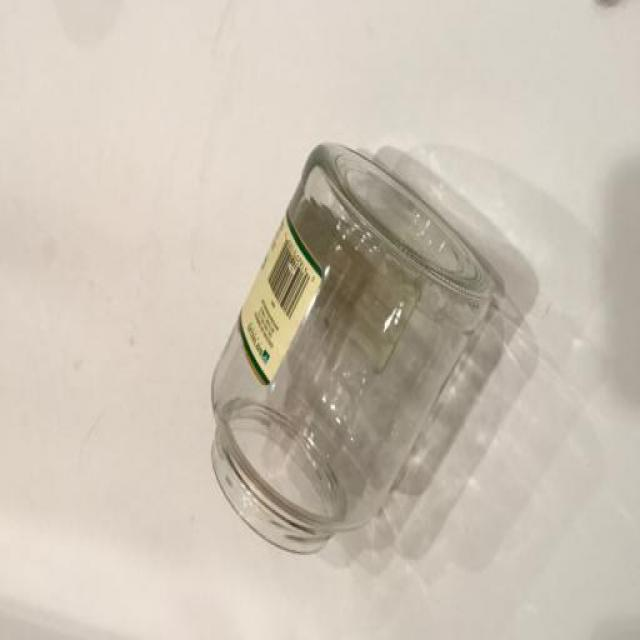glass: (190, 115, 524, 575)
